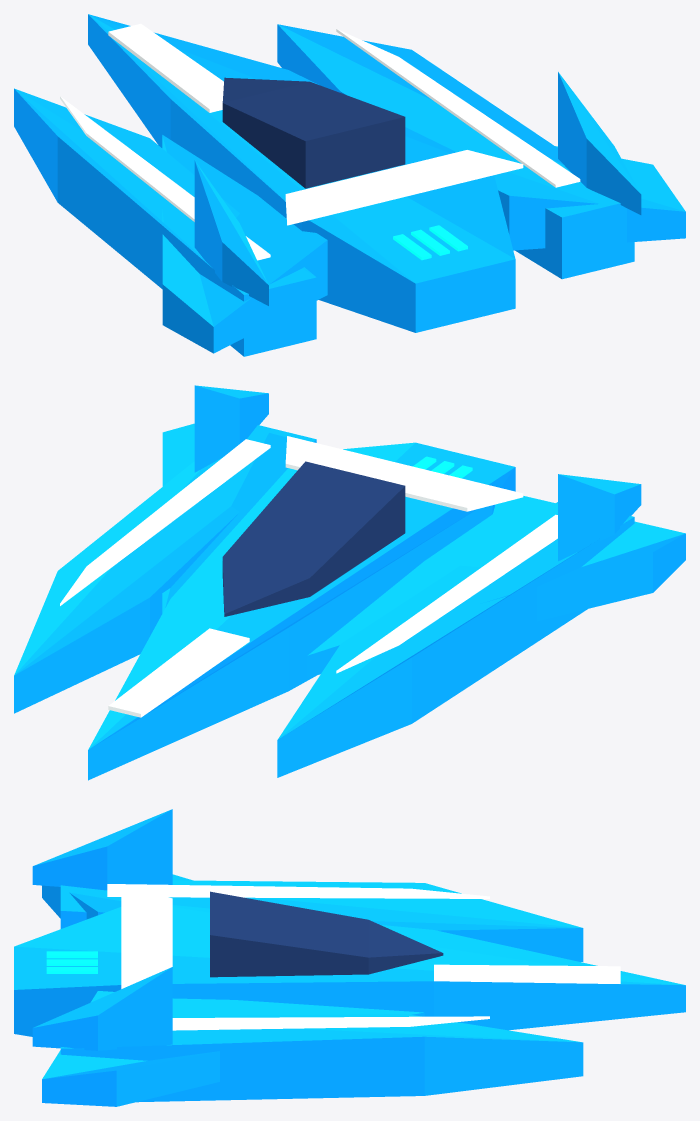
Rendered from hydrofoil-0.glb.
3 views of the same model, one above another, from view 1: azimuth 30°, elevation 25°; view 2: azimuth 150°, elevation 25°; view 3: azimuth 270°, elevation 25° (orthographic). The views are drawn at different scales.
Parts seen in each view (by area): view 1: BW-01 Split Delta; view 2: BW-01 Split Delta; view 3: BW-01 Split Delta.
Boxes of the visible parts, left/top/right/bottom form: BW-01 Split Delta: left=14, top=14, right=685, bottom=356; BW-01 Split Delta: left=14, top=385, right=685, bottom=780; BW-01 Split Delta: left=14, top=809, right=685, bottom=1106.
Size of the model in its own units: 5.4 by 1.55 by 7.2.
